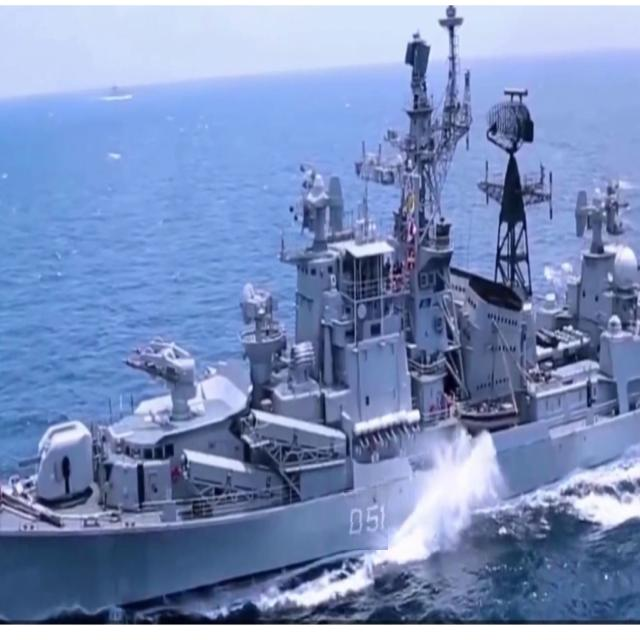OCR: (337, 490, 388, 550)
